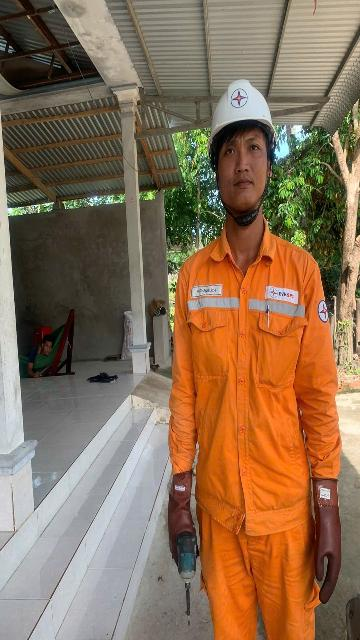gloves: (154, 460, 223, 564), (297, 467, 348, 602)
helmet: (202, 52, 286, 146)
